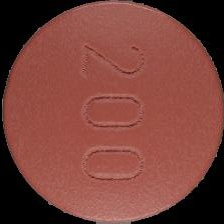50419-488: (0, 0, 224, 224)
